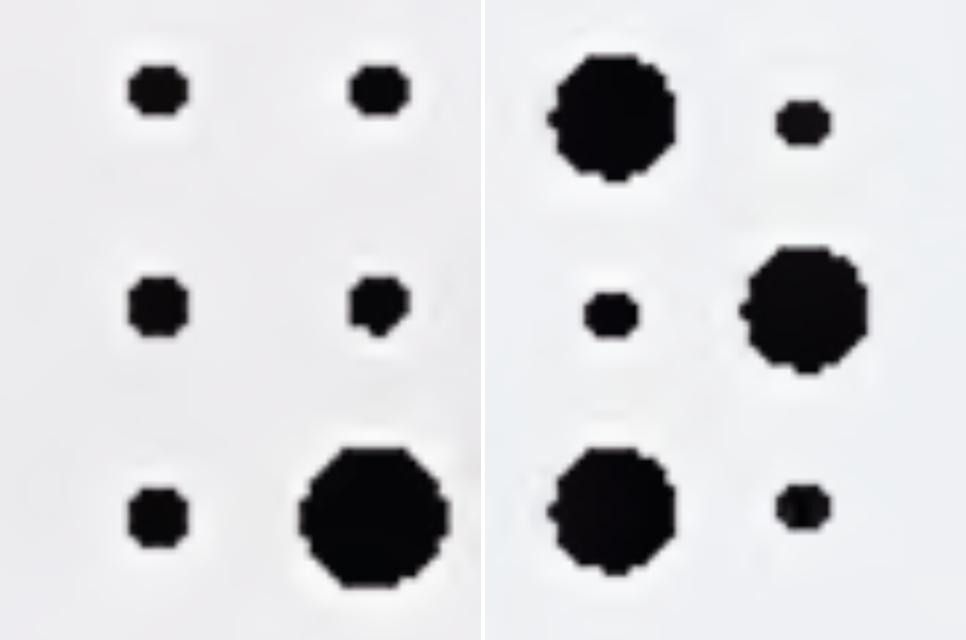capital_sign: (117, 53, 451, 590)
letter_O: (549, 53, 875, 579)
